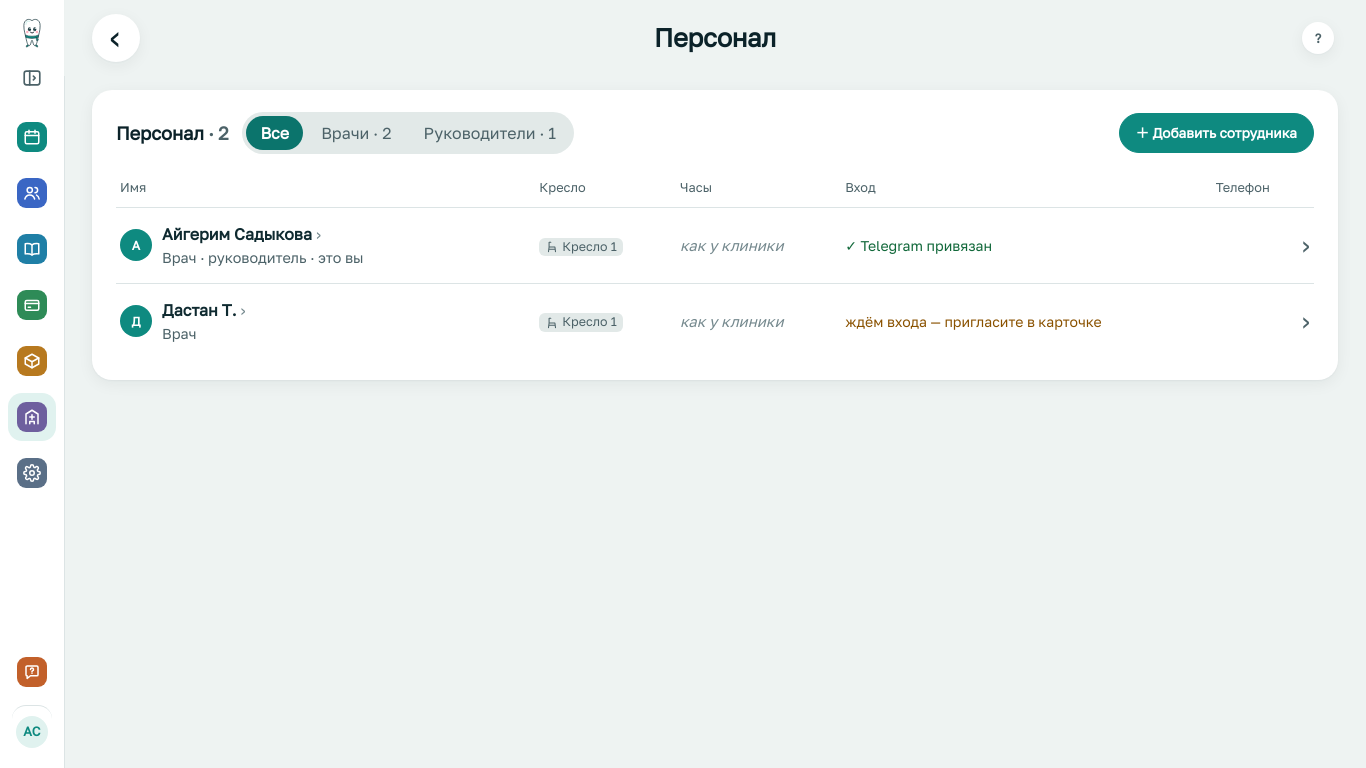
Test: часы врачей одного кресла пересекаются — подсказка под часами, не запрет
Click the button "Дастан Т.".
click(204, 310)  # box [162,298,246,322]
(page scrolled)
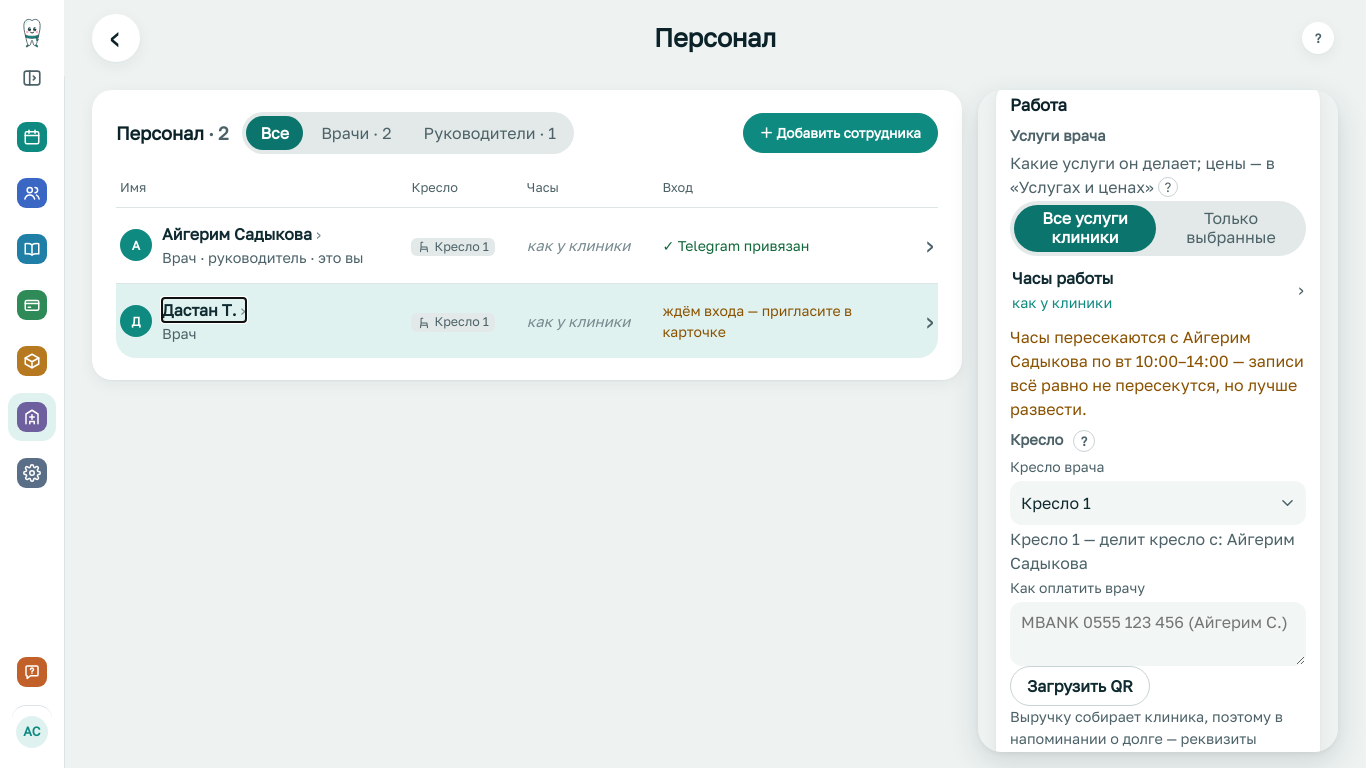
Expected: the text "Часы пересекаются" shows "Часы пересекаются с Айгерим Садыкова по вт 10:00–14:00 — записи всё равно не пересекутся, но лучше развести.", [1010,325,1306,421]
